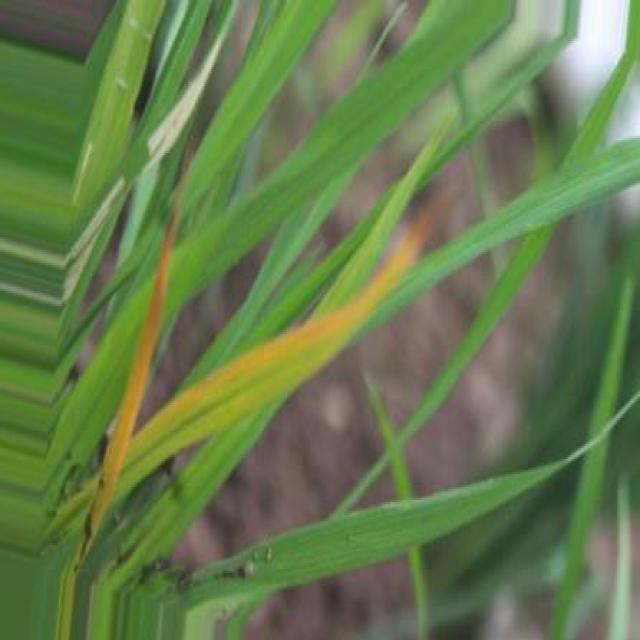Rice Tungro: (114, 224, 424, 500), (86, 212, 176, 551)
